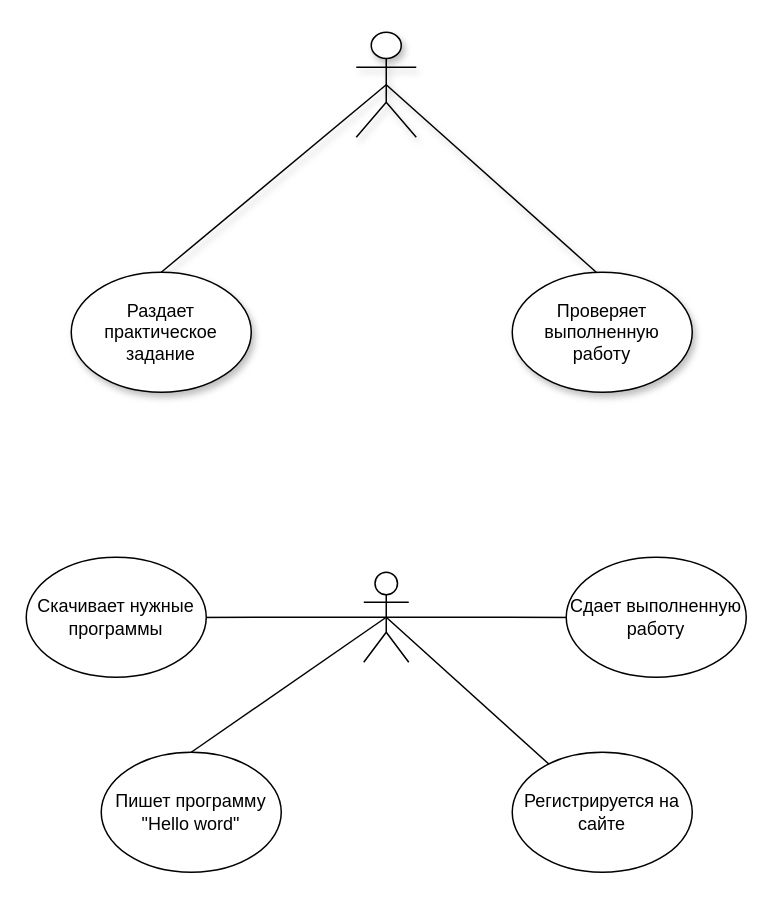
Some shapes in this 773 by 899 pixel diagram are drawn without their labels. Each missing label, with the centre of its shape:
Баркова В.И.: [385,616]
Васецкий А.М.: [387,86]
